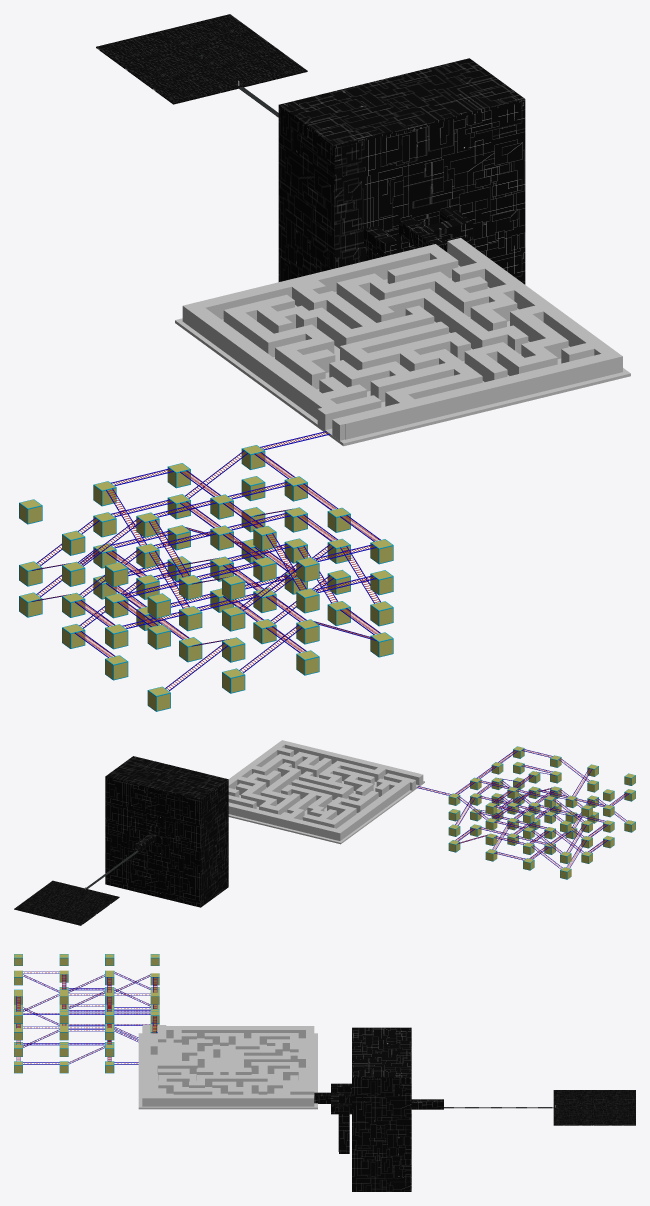
The model's file is sence0605.fbx.
The picture shows the model from 3 angles, top to bottom: view 1: azimuth 30°, elevation 25°; view 2: azimuth 150°, elevation 25°; view 3: azimuth 270°, elevation 25°; orthographic projection. The views are drawn at different scales.
Parts seen in each view (by area): view 1: polySurface374, pasted__pCube1, pasted__mian, pasted__pCube2, gai, dimian, pasted__xian, aa:pPlane1; view 2: polySurface374, pasted__mian, pasted__pCube1, pasted__pCube2, pasted__xian, gai, dimian, aa:pPlane1; view 3: polySurface374, pasted__pCube1, pasted__pCube2, pasted__mian, aa:pPlane1, gai, dimian, pasted__xian.
Boxes of the visible parts, <box> form: polySurface374: <box>278,101,525,284</box>; pasted__pCube1: <box>329,238,622,439</box>; pasted__mian: <box>19,445,392,710</box>; pasted__pCube2: <box>182,244,458,428</box>; gai: <box>278,58,525,147</box>; dimian: <box>96,14,307,104</box>; pasted__xian: <box>19,445,393,711</box>; aa:pPlane1: <box>175,265,630,446</box>; polySurface374: <box>105,777,228,907</box>; pasted__mian: <box>449,746,635,879</box>; pasted__pCube1: <box>228,740,420,814</box>; pasted__pCube2: <box>228,773,413,840</box>; pasted__xian: <box>448,746,635,879</box>; gai: <box>105,756,228,800</box>; dimian: <box>14,880,119,925</box>; aa:pPlane1: <box>228,755,424,844</box>; polySurface374: <box>314,1078,443,1191</box>; pasted__pCube1: <box>142,1026,314,1106</box>; pasted__pCube2: <box>158,1026,314,1094</box>; pasted__mian: <box>14,954,159,1072</box>; aa:pPlane1: <box>138,1033,317,1109</box>; gai: <box>352,1027,411,1078</box>; dimian: <box>553,1090,635,1125</box>; pasted__xian: <box>14,954,159,1073</box>.
Size of the model in its own units: 256 by 77.03 by 378.
